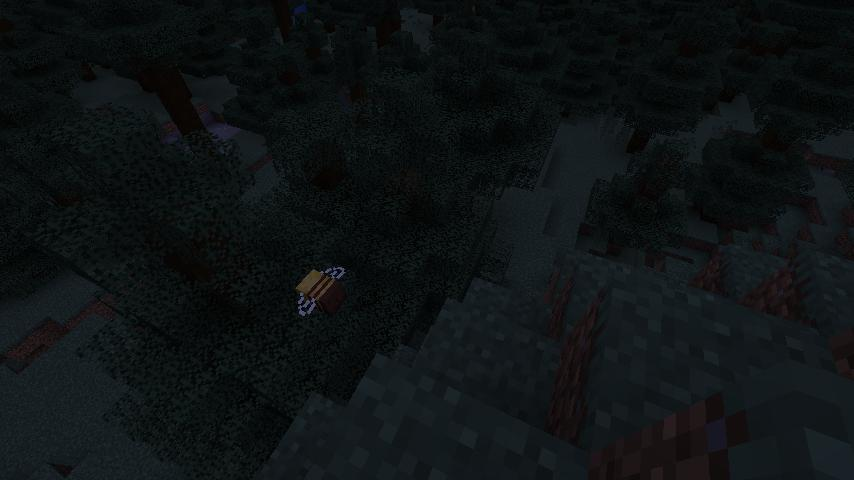bee: (292, 263, 350, 319)
